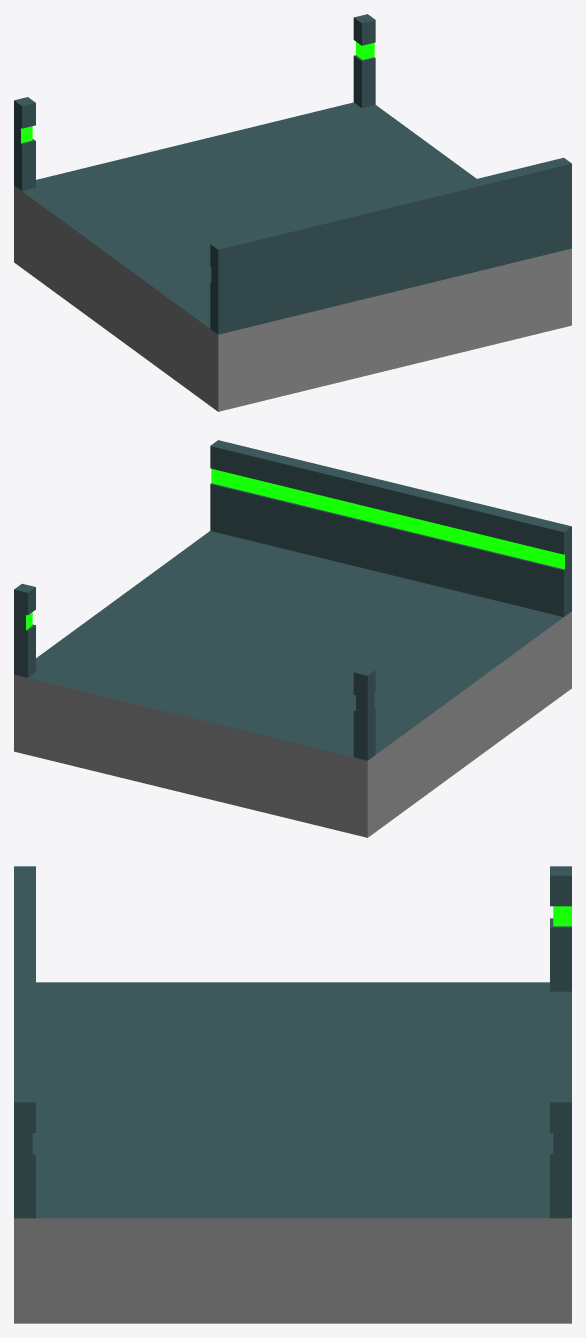
File: Stairs_03_Platform_E.FBX
3 views of the same model, one above another, from view 1: azimuth 30°, elevation 25°; view 2: azimuth 150°, elevation 25°; view 3: azimuth 270°, elevation 25° (orthographic). The views are drawn at different scales.
Parts seen in each view (by area): view 1: Stairs_03_Platform_E_LOD0; view 2: Stairs_03_Platform_E_LOD0; view 3: Stairs_03_Platform_E_LOD0.
Part boxes in pixels (bbox=[...]): Stairs_03_Platform_E_LOD0: bbox=[14, 14, 571, 411]; Stairs_03_Platform_E_LOD0: bbox=[14, 440, 571, 837]; Stairs_03_Platform_E_LOD0: bbox=[14, 866, 571, 1323].
Size of what is drawn, in the model's own units: 180 by 78.78 by 180.
